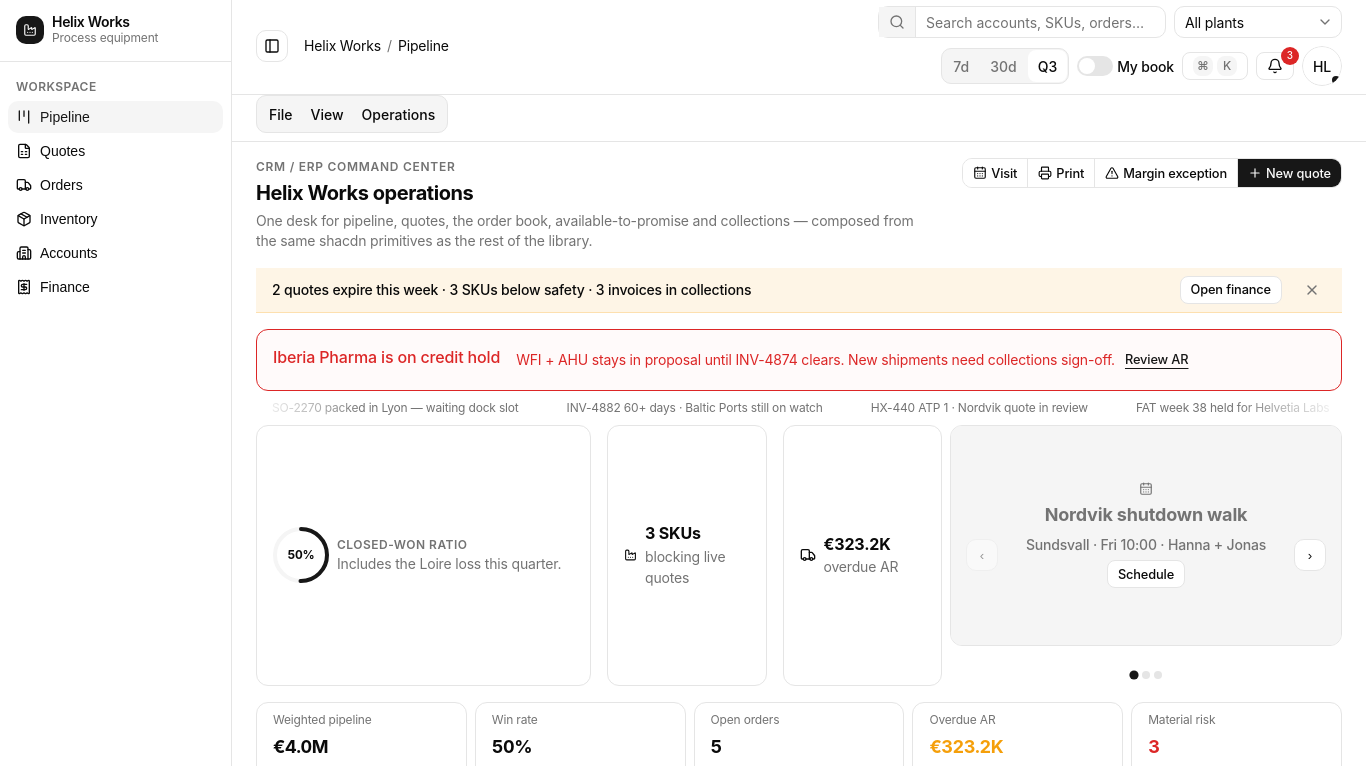
Test: CrmErp › drafts a quote from the header action
The image size is (1366, 766).
Click the button "New quote": point(1289, 173) [1237, 159, 1341, 187]
(page scrolled)
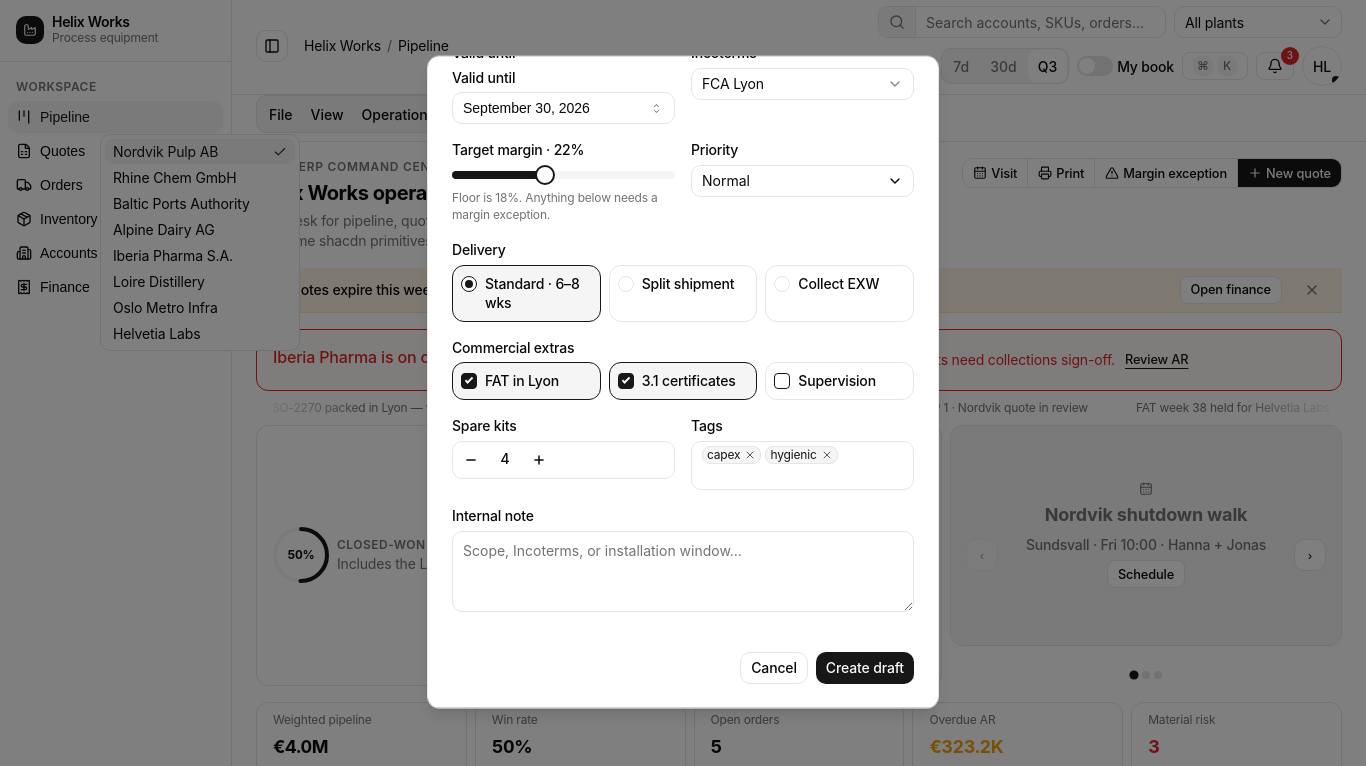
Expected: the dialog "New quote" is shown, [427, 56, 939, 708]
Click the button "Create draft": point(865, 668) [816, 652, 914, 684]
(page scrolled)
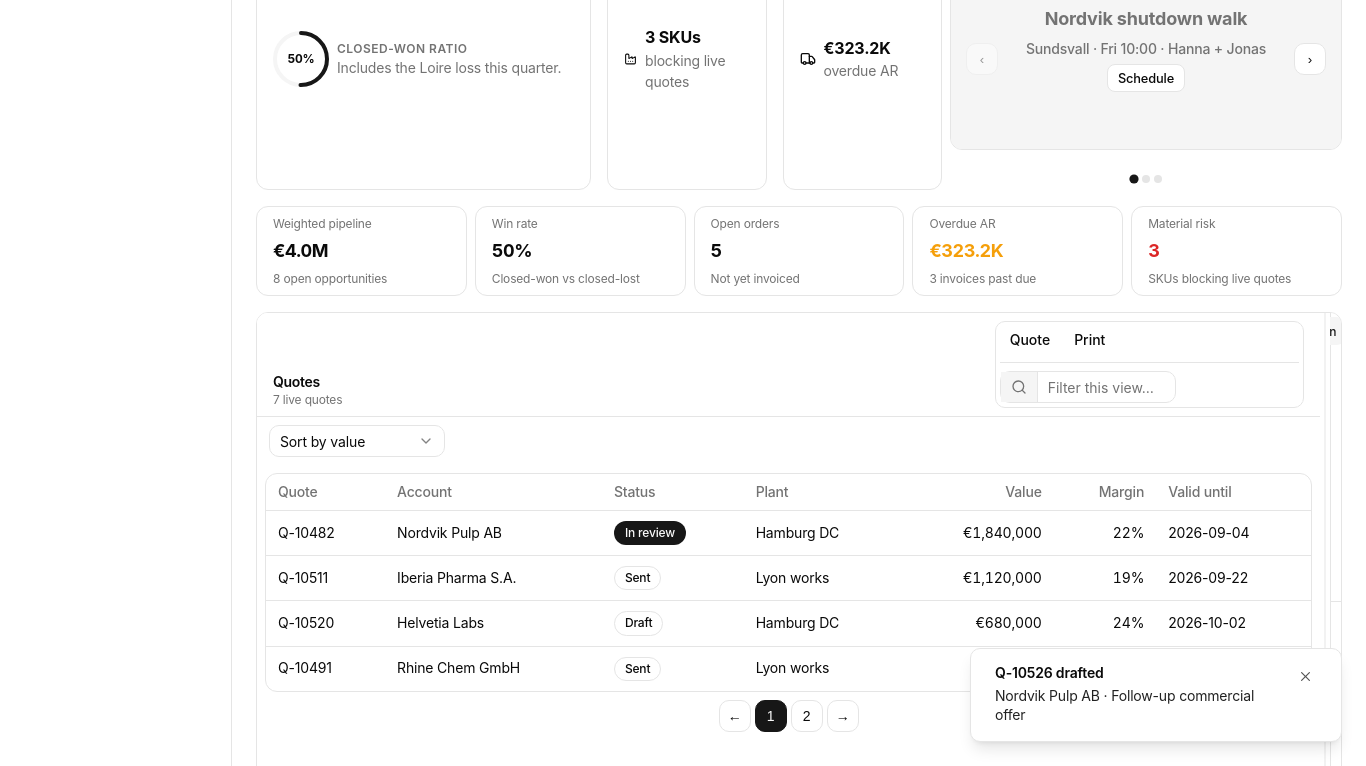
Expected: the text "Q-10526 drafted" is shown, [995, 664, 1104, 681]
Expected: the heading "Quotes" is shown, [273, 373, 320, 390]
